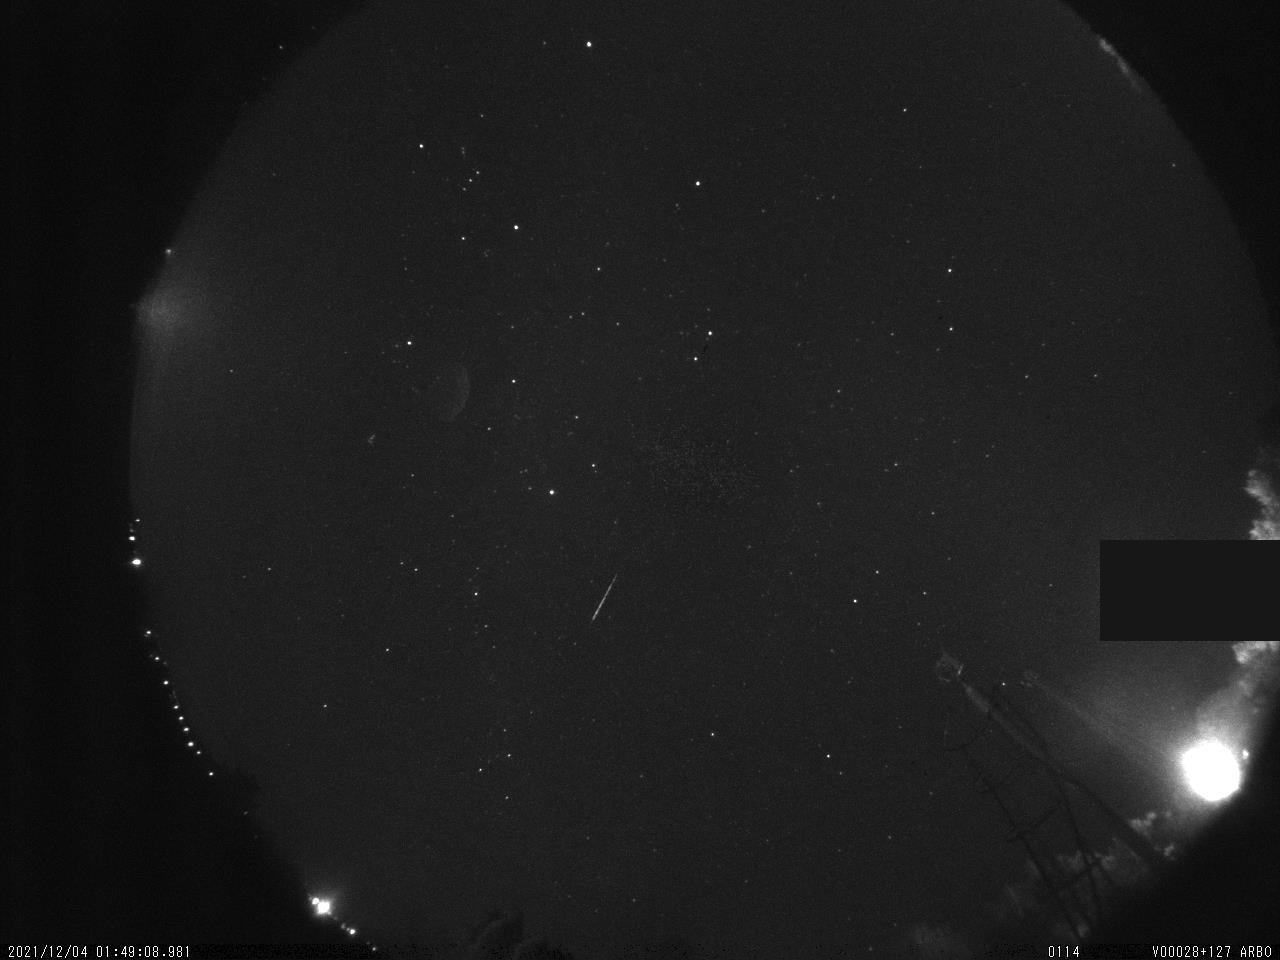meteor: (572, 561, 640, 632)
